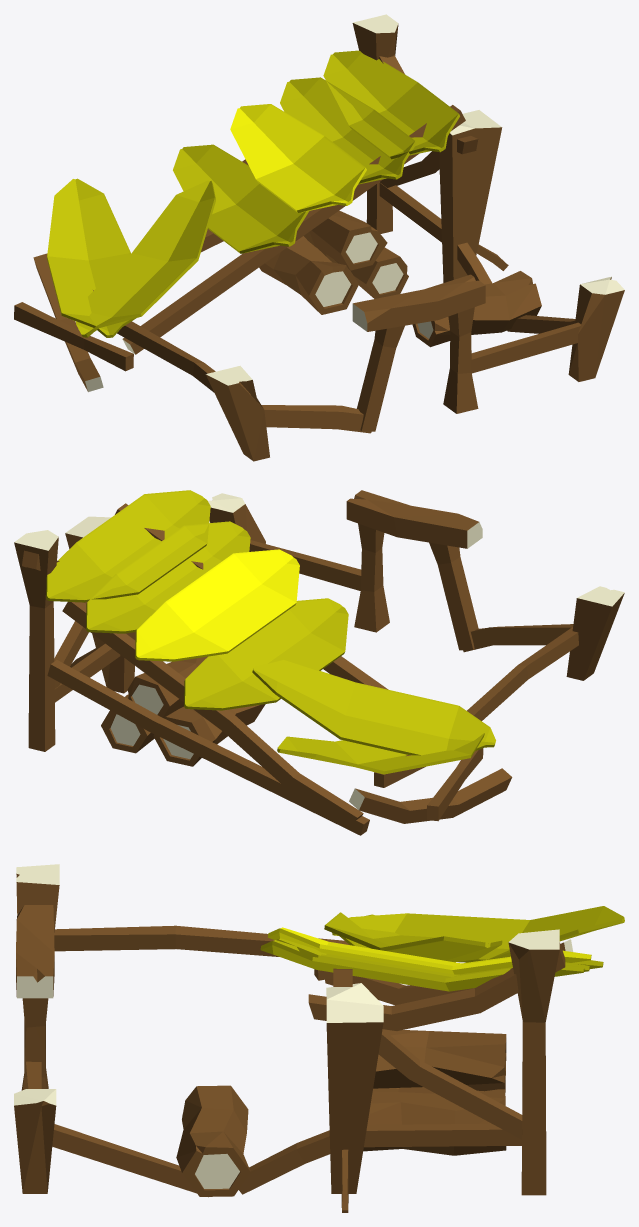
File: Wood_storage_2.fbx
3 views of the same model, one above another, from view 1: azimuth 30°, elevation 25°; view 2: azimuth 150°, elevation 25°; view 3: azimuth 270°, elevation 25° (orthographic). The views are drawn at different scales.
Visible parts, largest first — view 1: Cube.217; view 2: Cube.217; view 3: Cube.217.
Boxes of the visible parts, left/top/right/bottom form: Cube.217: left=14, top=14, right=624, bottom=461; Cube.217: left=14, top=490, right=624, bottom=835; Cube.217: left=14, top=864, right=624, bottom=1212.
Bounding box in the file's own units: 6 × 6 × 3.
